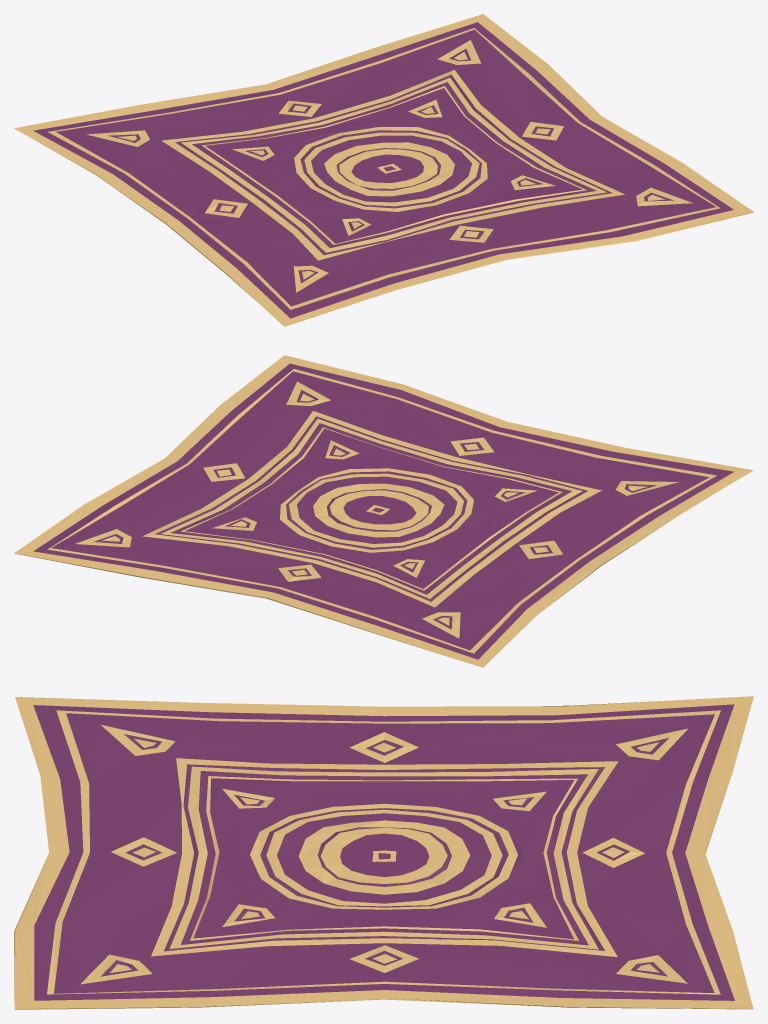
Rendered from SFFA_Rug_004.fbx.
The picture shows the model from 3 angles, top to bottom: view 1: azimuth 30°, elevation 25°; view 2: azimuth 150°, elevation 25°; view 3: azimuth 270°, elevation 25°; orthographic projection. The views are drawn at different scales.
Visible parts, largest first — view 1: SFFA_Rug_004; view 2: SFFA_Rug_004; view 3: SFFA_Rug_004.
Boxes of the visible parts, x1,y1,x2,y2 form: SFFA_Rug_004: (14, 14, 753, 326); SFFA_Rug_004: (14, 355, 753, 667); SFFA_Rug_004: (14, 696, 753, 1009).
Bounding box in the file's own units: 295 × 1.14 × 295.
